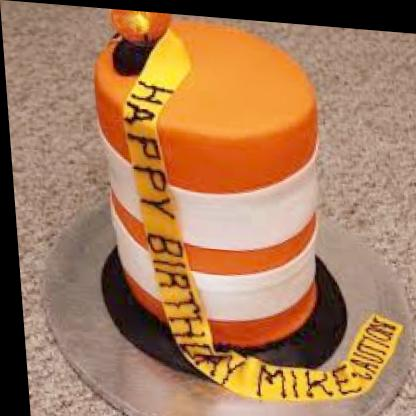obstacle: (80, 16, 344, 366)
